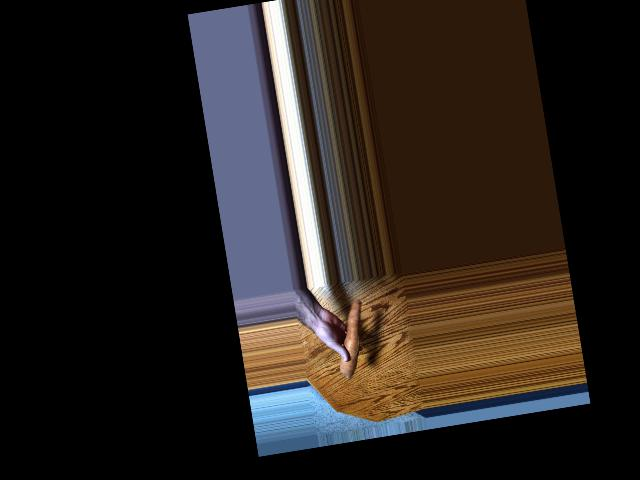sweet_potato: (333, 296, 366, 377)
